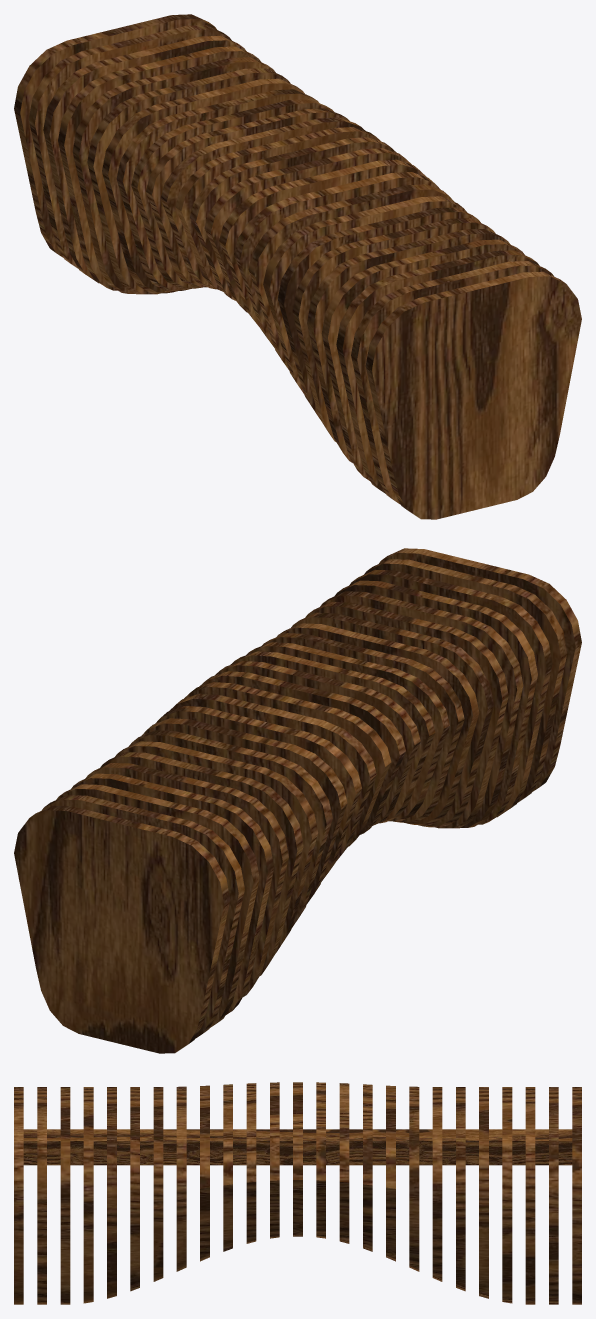
The model's file is bench_wooden_stano.glb.
The picture shows the model from 3 angles, top to bottom: view 1: azimuth 30°, elevation 25°; view 2: azimuth 150°, elevation 25°; view 3: azimuth 270°, elevation 25°; orthographic projection. The views are drawn at different scales.
Visible parts, largest first — view 1: Object_4; view 2: Object_4; view 3: Object_4, Object_6.
Part boxes in pixels (x1,y1,x2,y2): Object_4: (14, 14, 581, 519); Object_4: (14, 548, 581, 1053); Object_4: (14, 1082, 581, 1304); Object_6: (23, 1129, 572, 1165).
Bounding box in the file's own units: 2 × 2.05 × 5.9.
2 materials, 2 textured.
